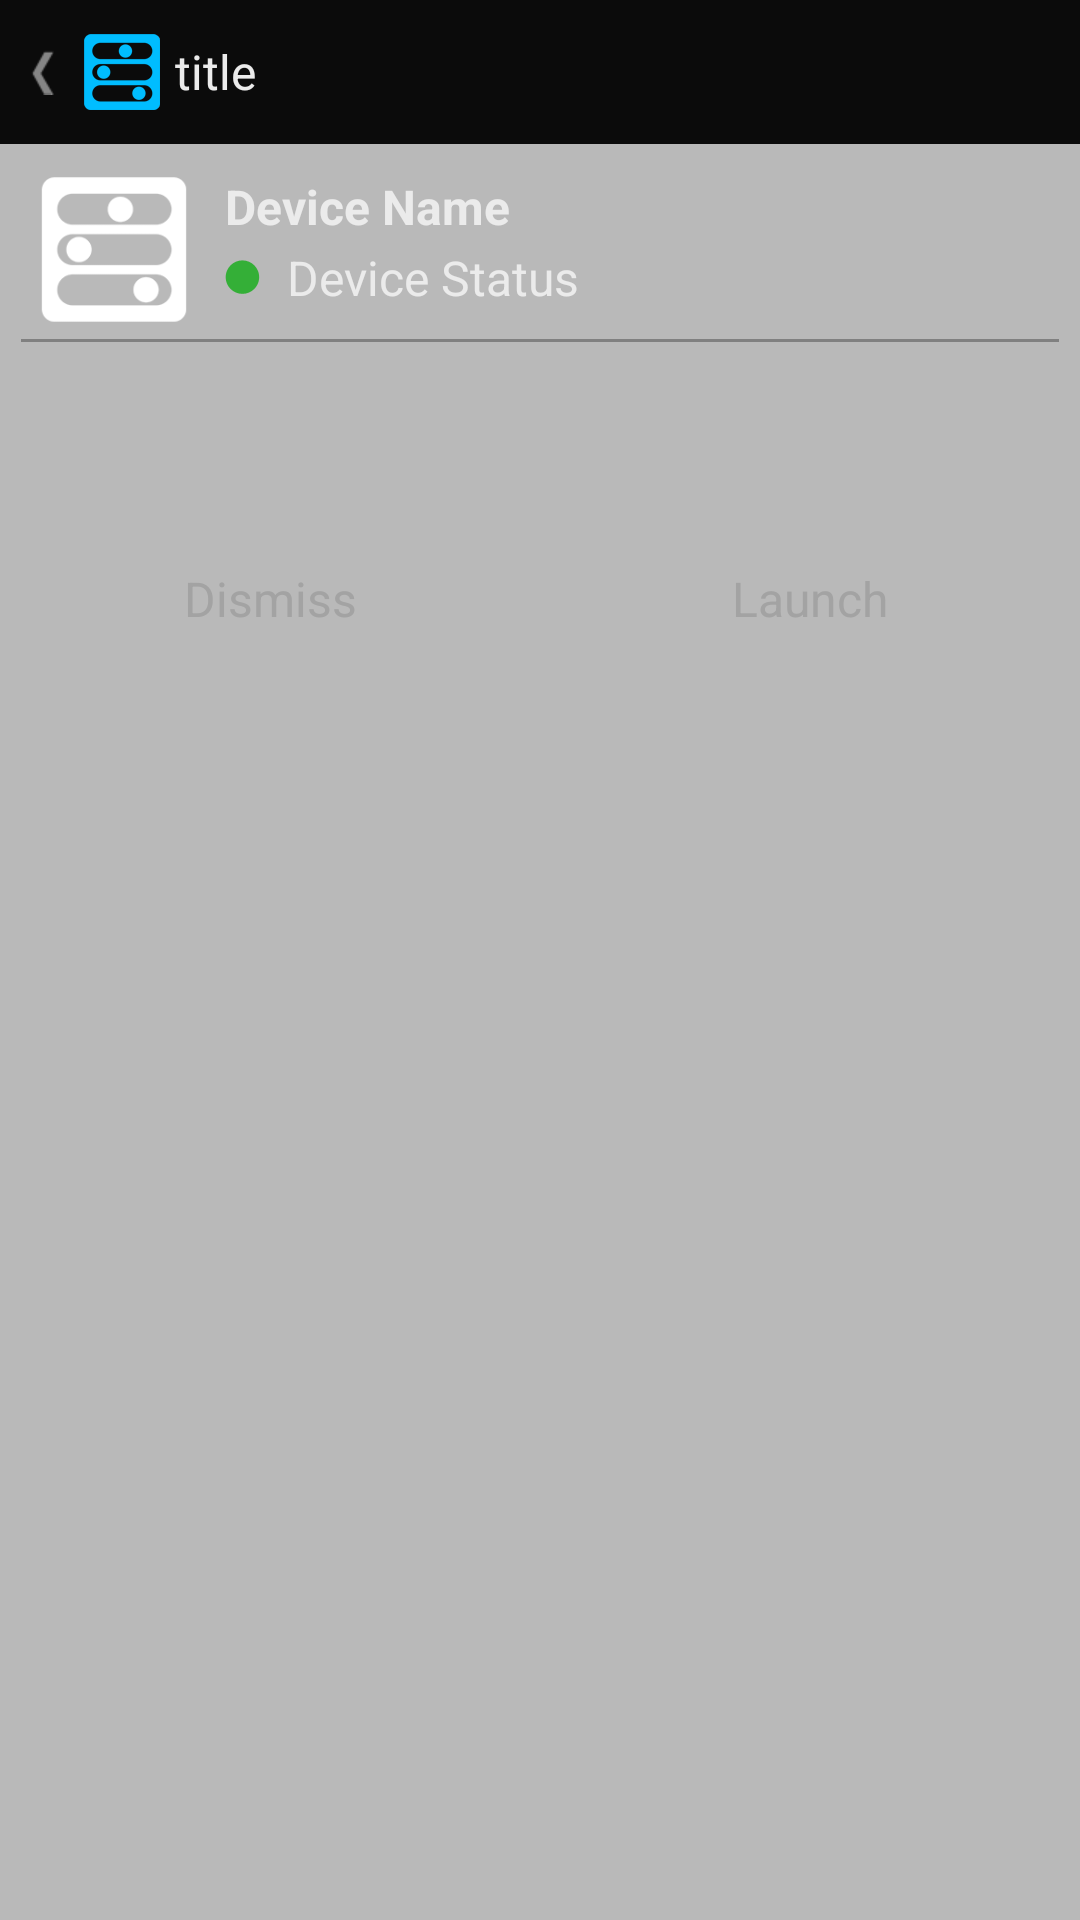

Icon bounding boxes for this 1080 x 1920 phone screenshot, format (x1, y1, x2, y2):
back: (32, 52, 54, 95)
devices status available: (225, 260, 259, 294)
